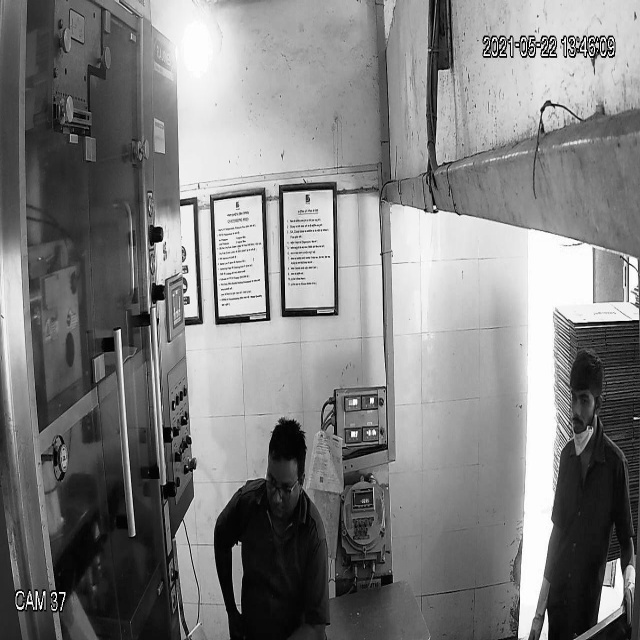Gafas: (262, 468, 305, 500)
Sin_gafas: (564, 384, 602, 412)
